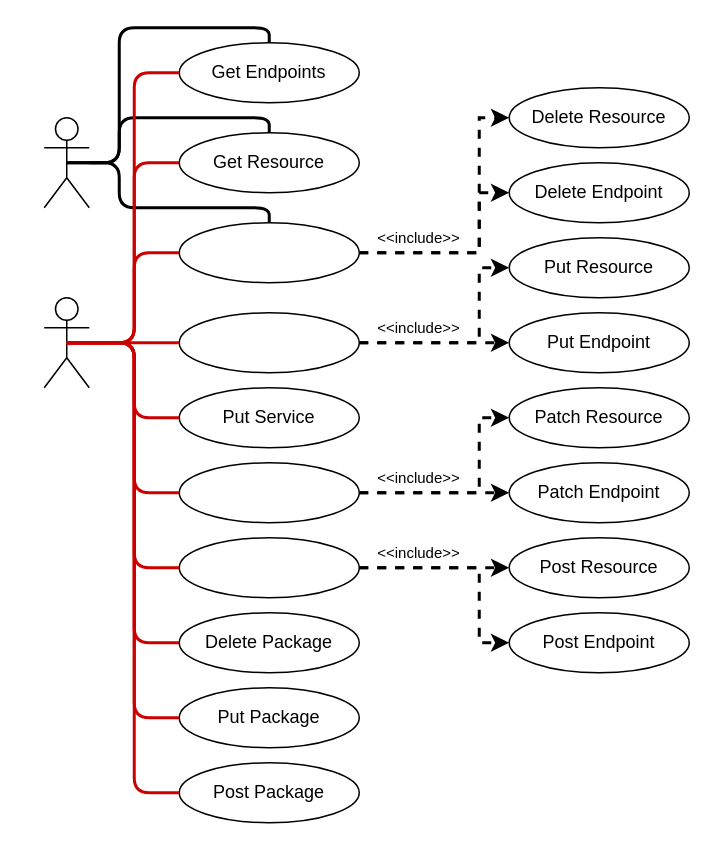
The diagram is 716 pixels wide and 849 high, and some of its shapes have lost their labels. The shapes that lost their labels are listed below. From the top down, each one's box as (x1, y1, x2, y2) in pixels, then its label:
(43, 116, 89, 208): User
(178, 221, 359, 283): Get Service
(43, 296, 89, 388): Developer
(178, 311, 359, 373): Delete Service
(178, 461, 359, 523): Patch Service
(178, 536, 359, 598): Post Service
